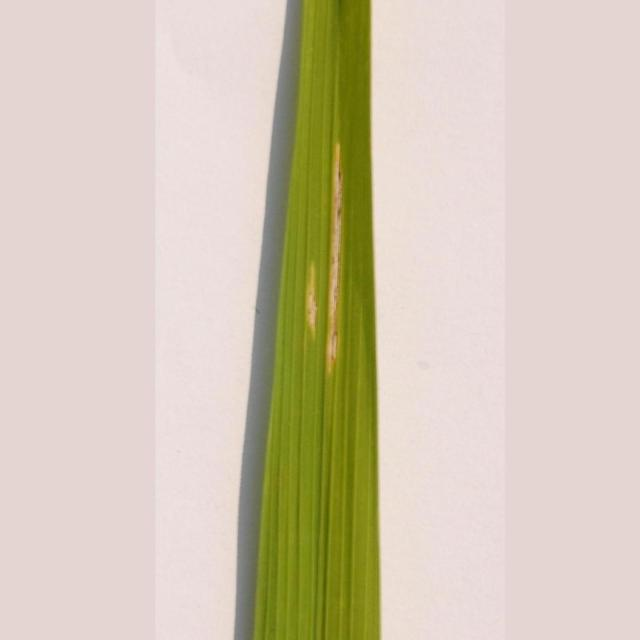Bacterial leaf blight: (324, 132, 346, 398), (300, 254, 322, 342)
